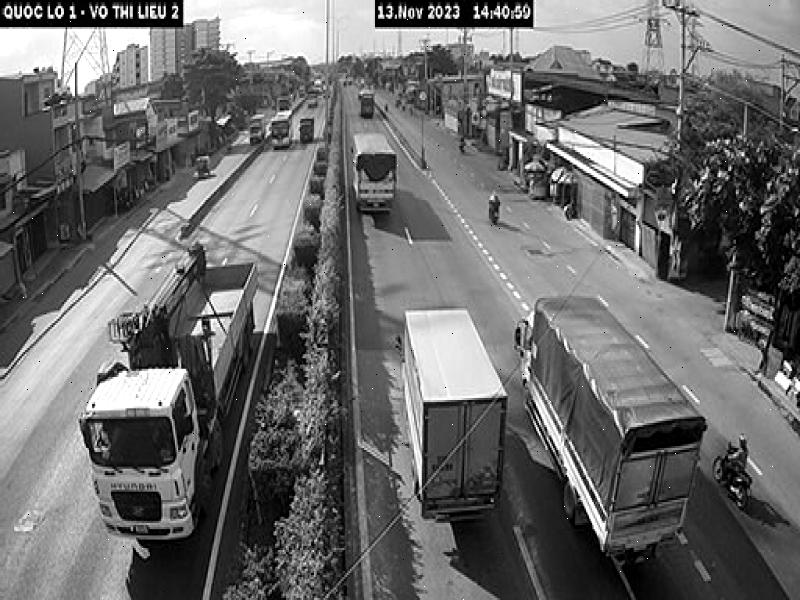truck: (84, 239, 257, 543), (516, 293, 706, 567), (393, 308, 510, 519)
